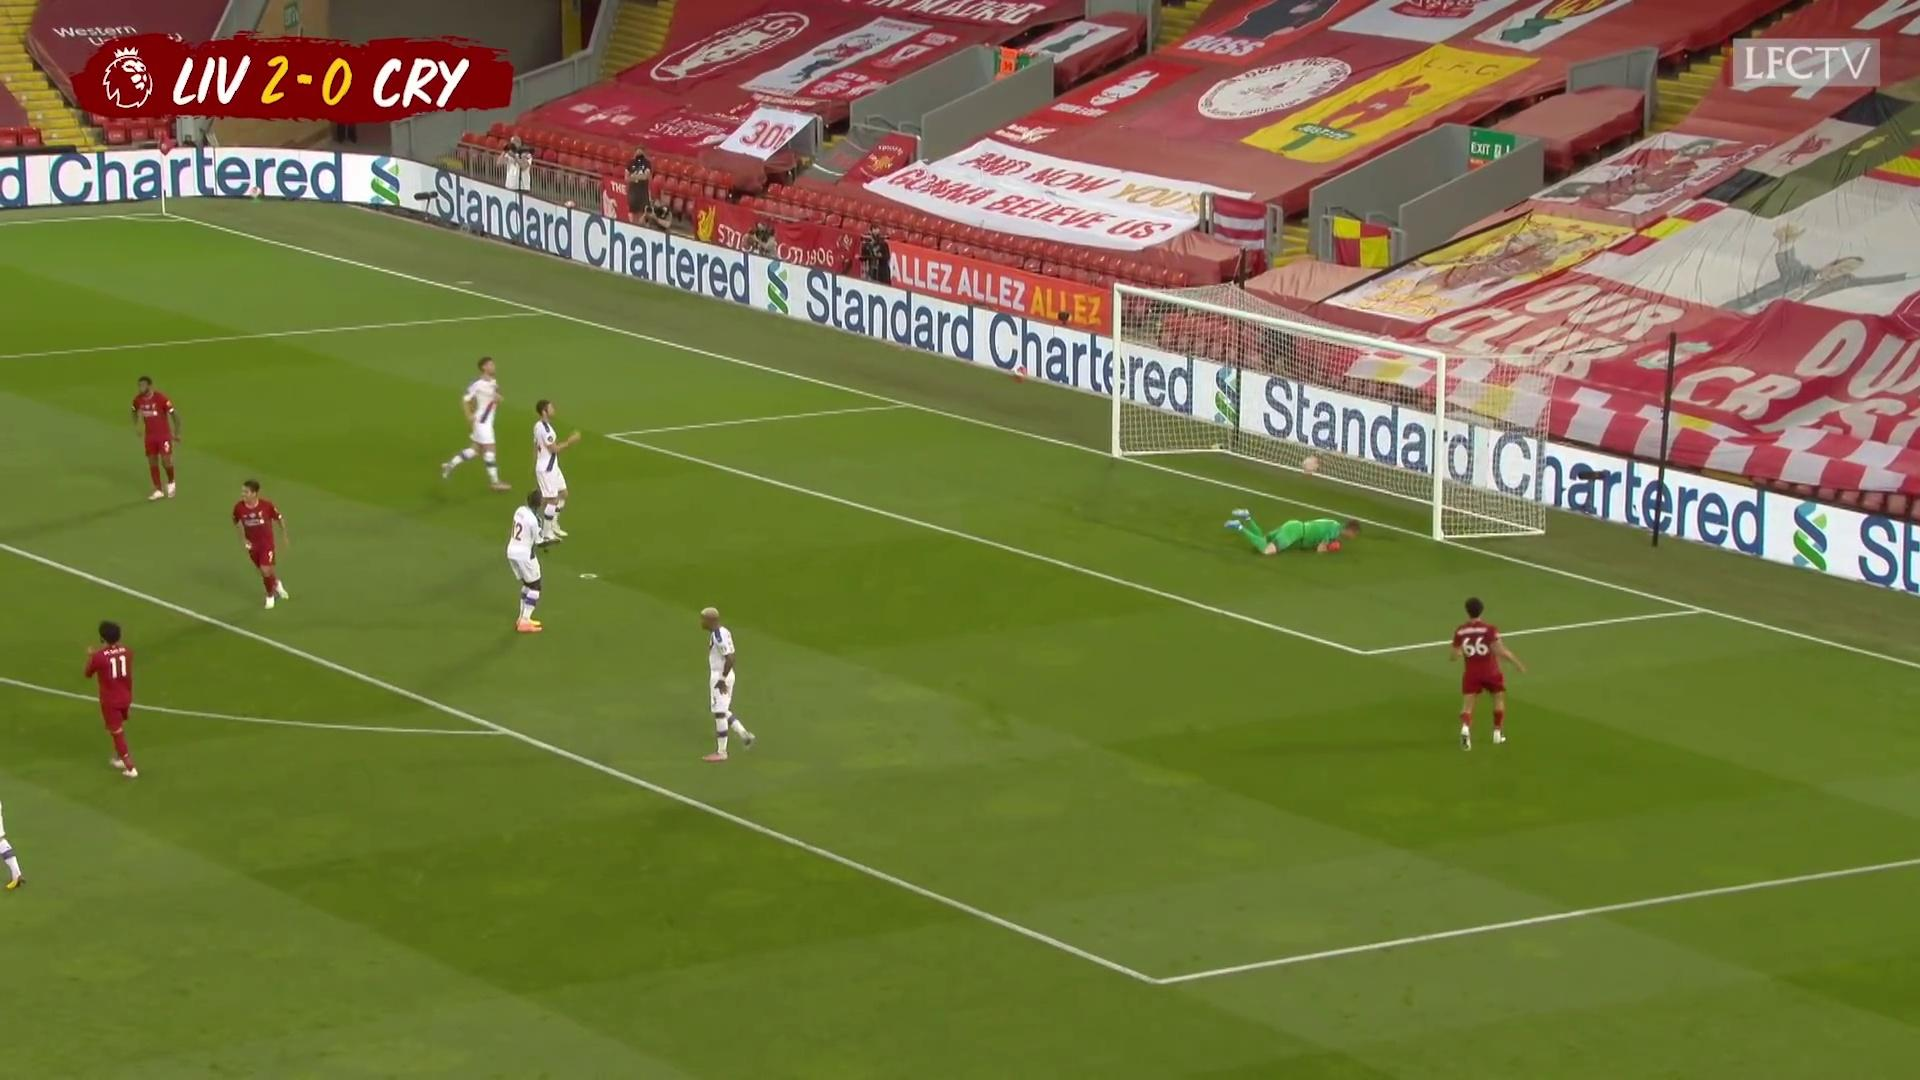ball: (1303, 453, 1321, 475)
goalkeeper: (1225, 508, 1362, 563)
player: (1444, 595, 1526, 756), (78, 617, 147, 783), (439, 355, 516, 494), (697, 602, 757, 763), (230, 477, 298, 616), (523, 396, 584, 543), (126, 371, 189, 506), (506, 489, 559, 642), (0, 764, 30, 893)
